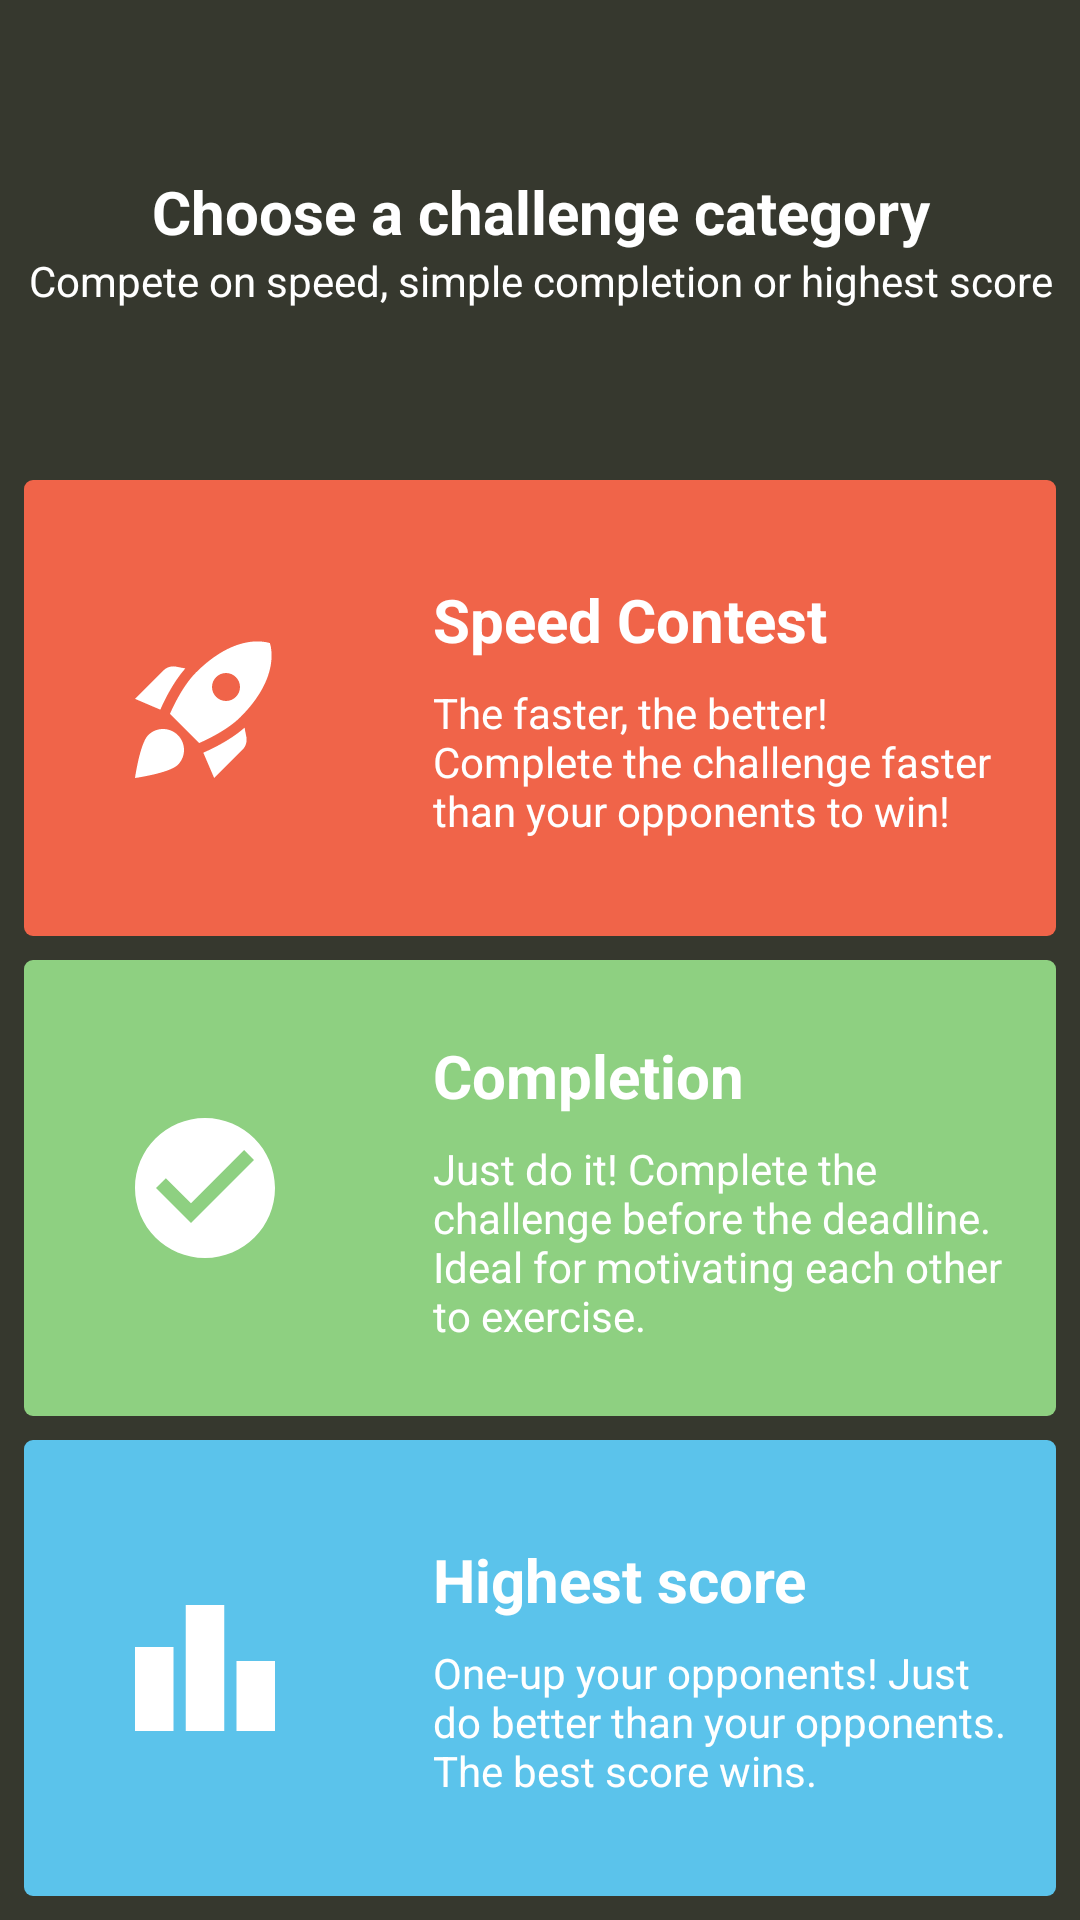

Where icons sit on this 1080w x 1920h app screen, as (x1, y1, x2, y2):
check circle: (135, 1118, 275, 1258)
leaderboard: (135, 1605, 275, 1731)
rocket launch: (135, 641, 272, 778)
